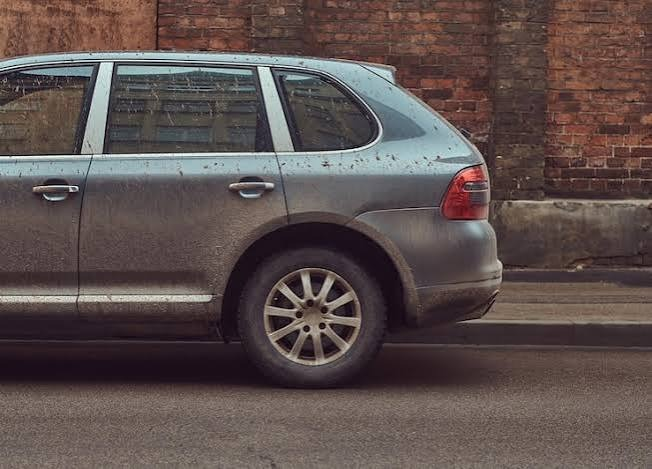car: (1, 47, 519, 398), (1, 49, 521, 395)
